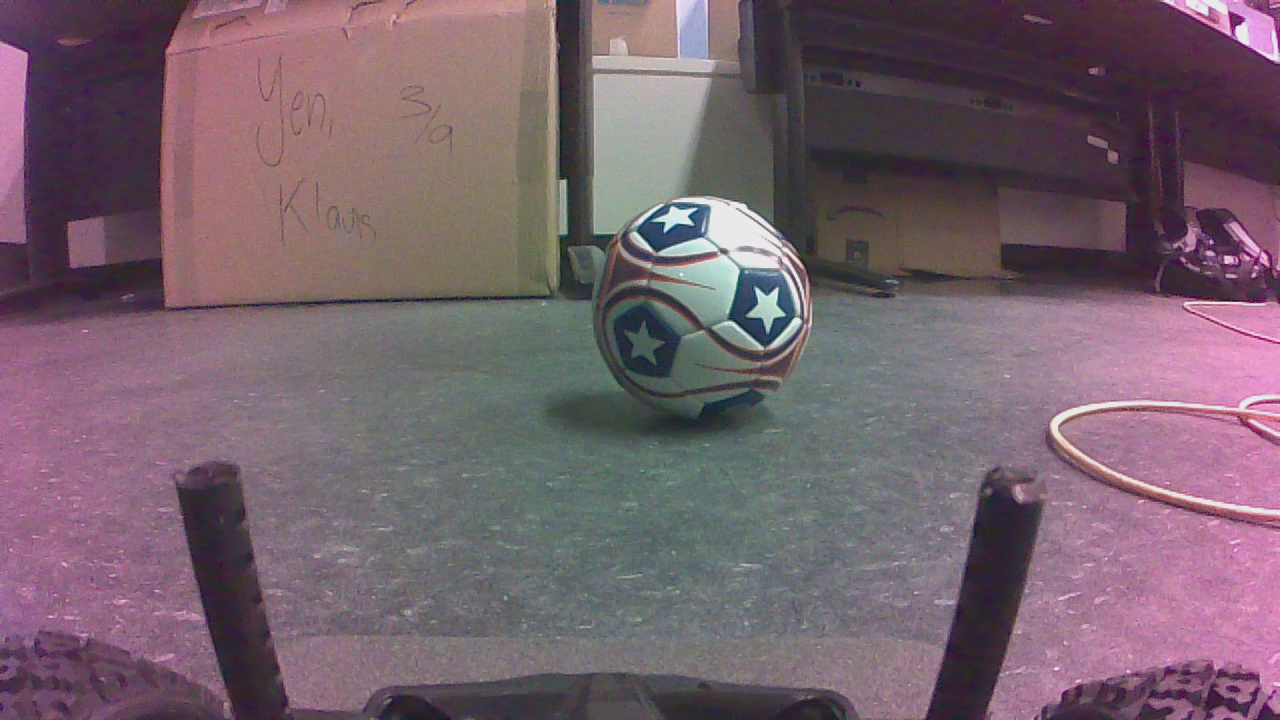ball: (599, 202, 818, 430)
